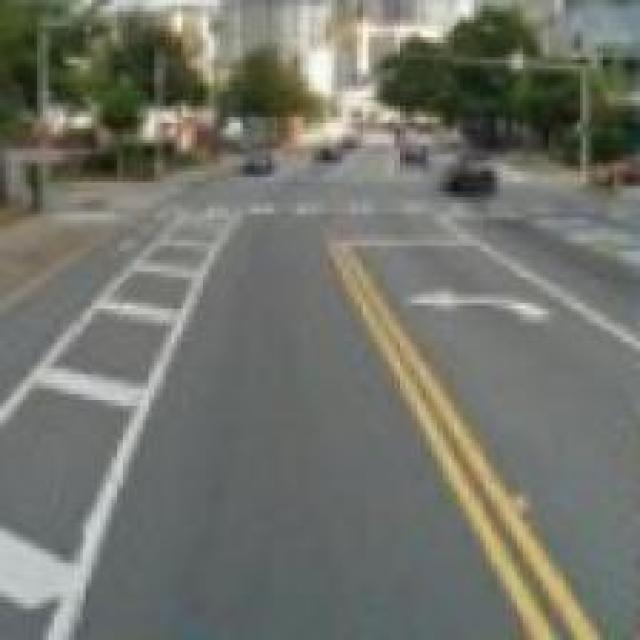walk-crossing: (154, 193, 634, 226)
